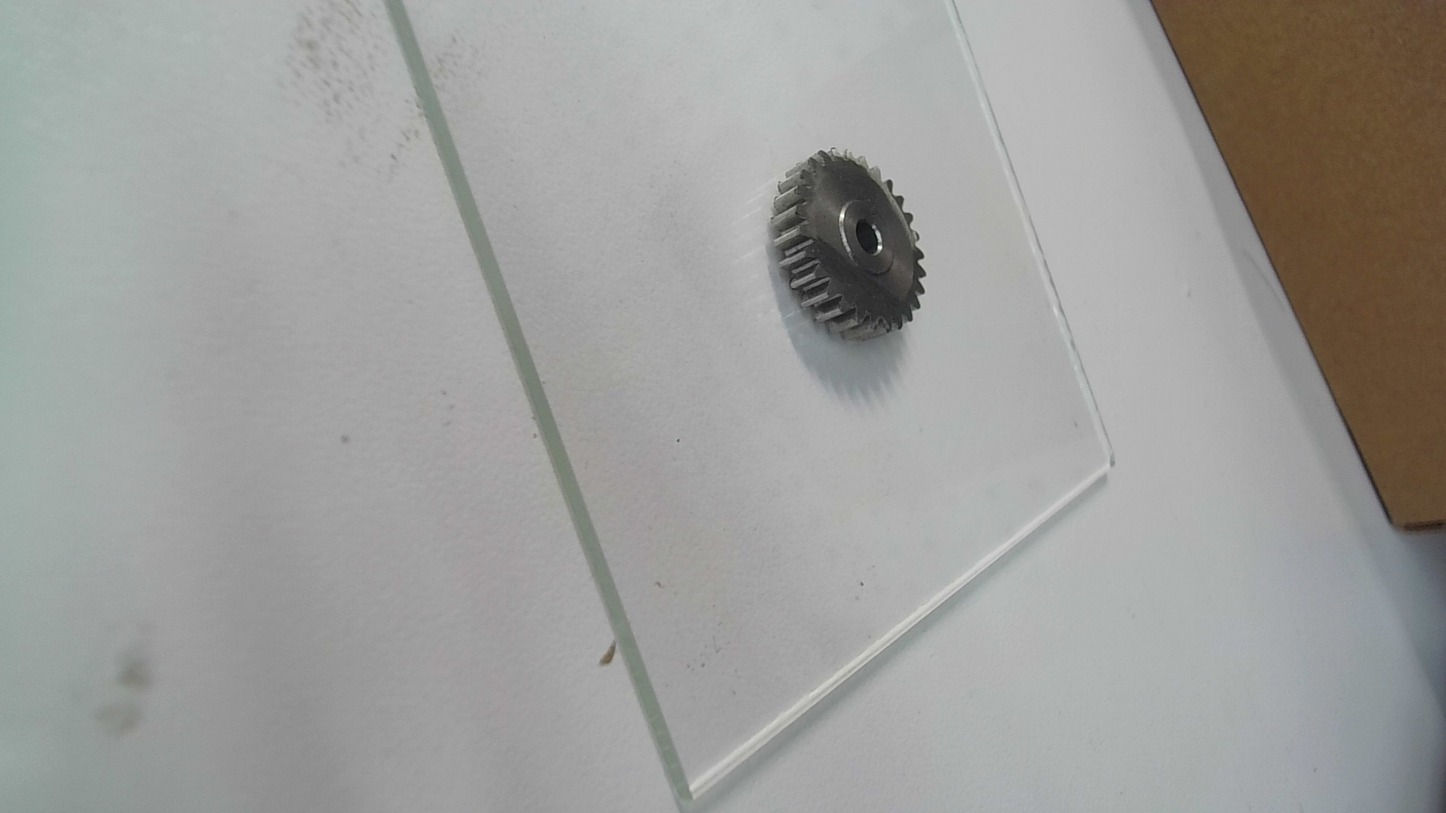gear: (766, 147, 924, 342)
